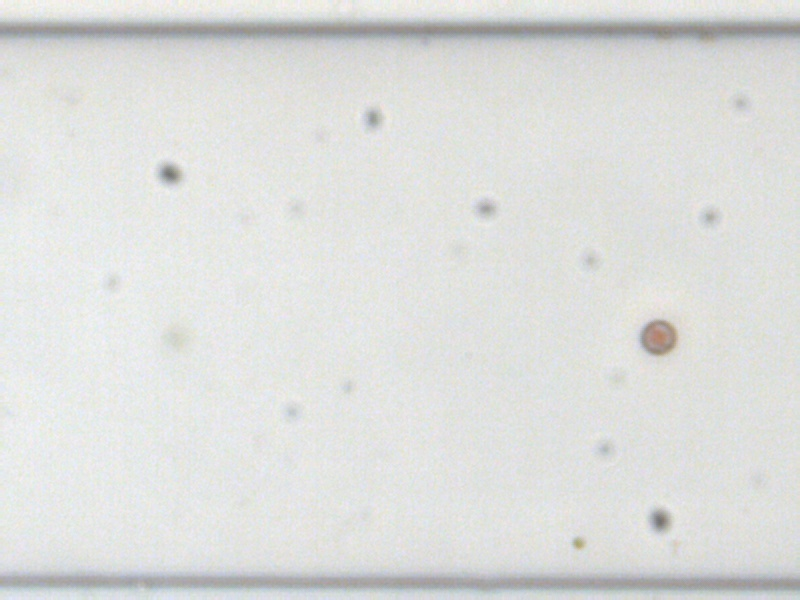Chlorella: (569, 536, 584, 547)
Porphyridium: (638, 319, 678, 355)
